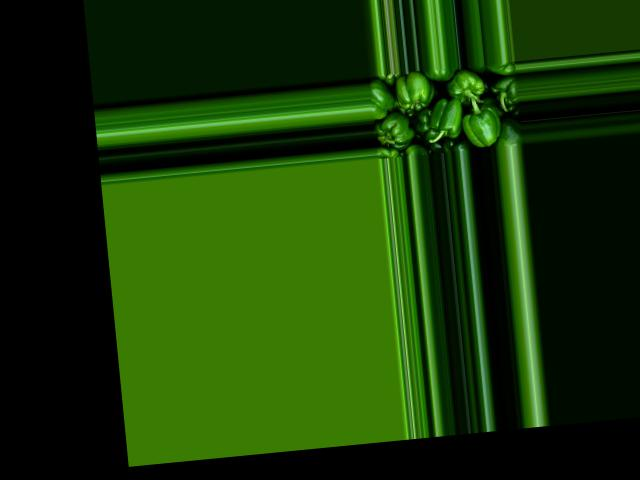bell_pepper: (488, 117, 524, 148)
